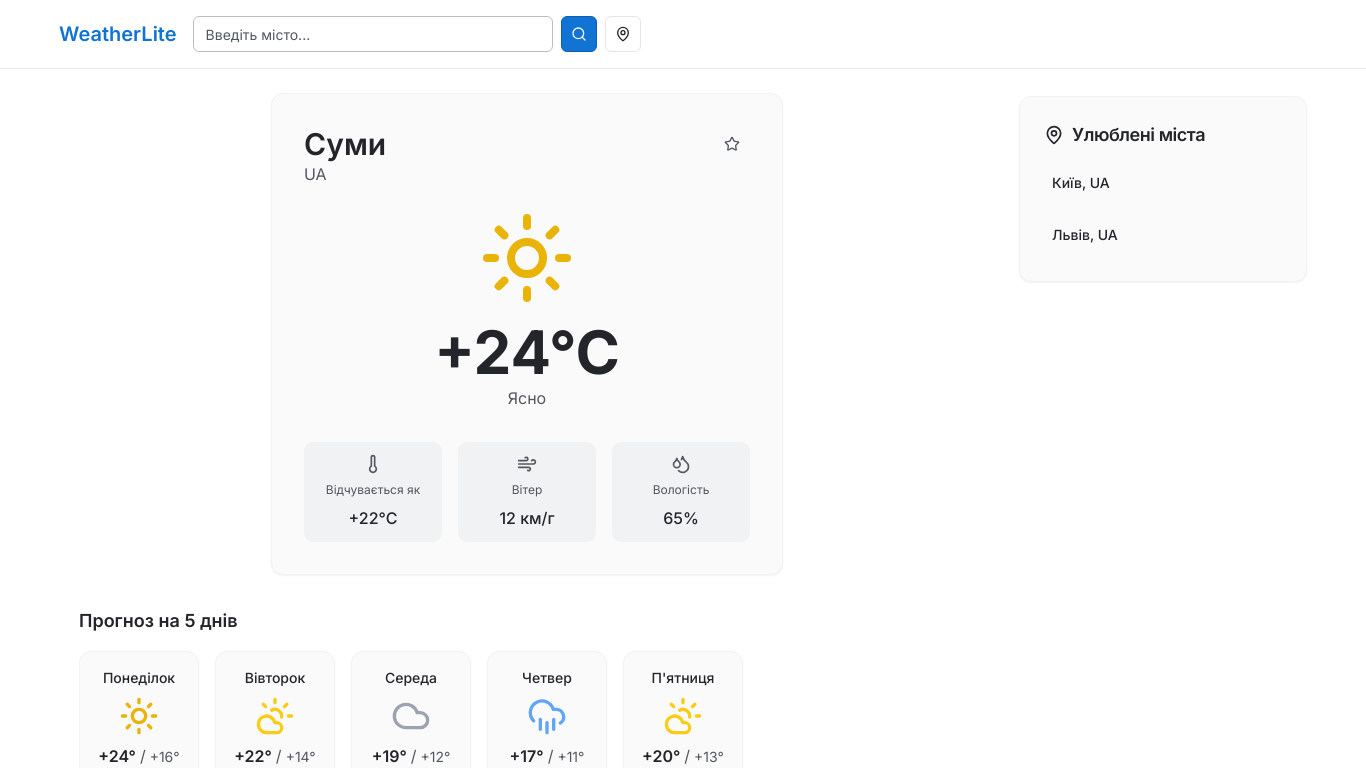
Test: Integration Test - Search, API, and Weather Card › should search for London and display weather card
This screenshot has width=1366, height=768.
Type "London" into the search field with test id "input-search-city".
click(373, 34); type("London")  # box [193,16,553,52]
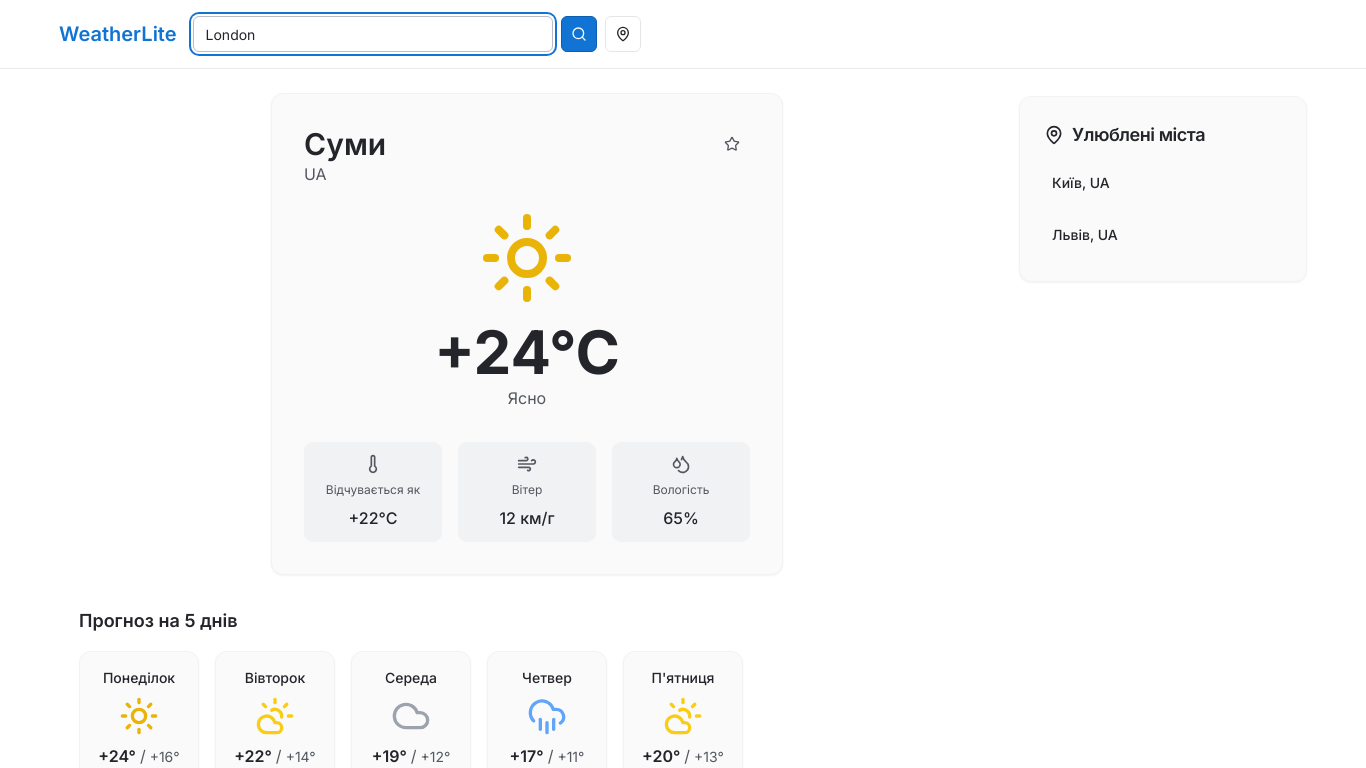
Click the button with test id "button-search".
click(579, 34)  # box [561,16,597,52]
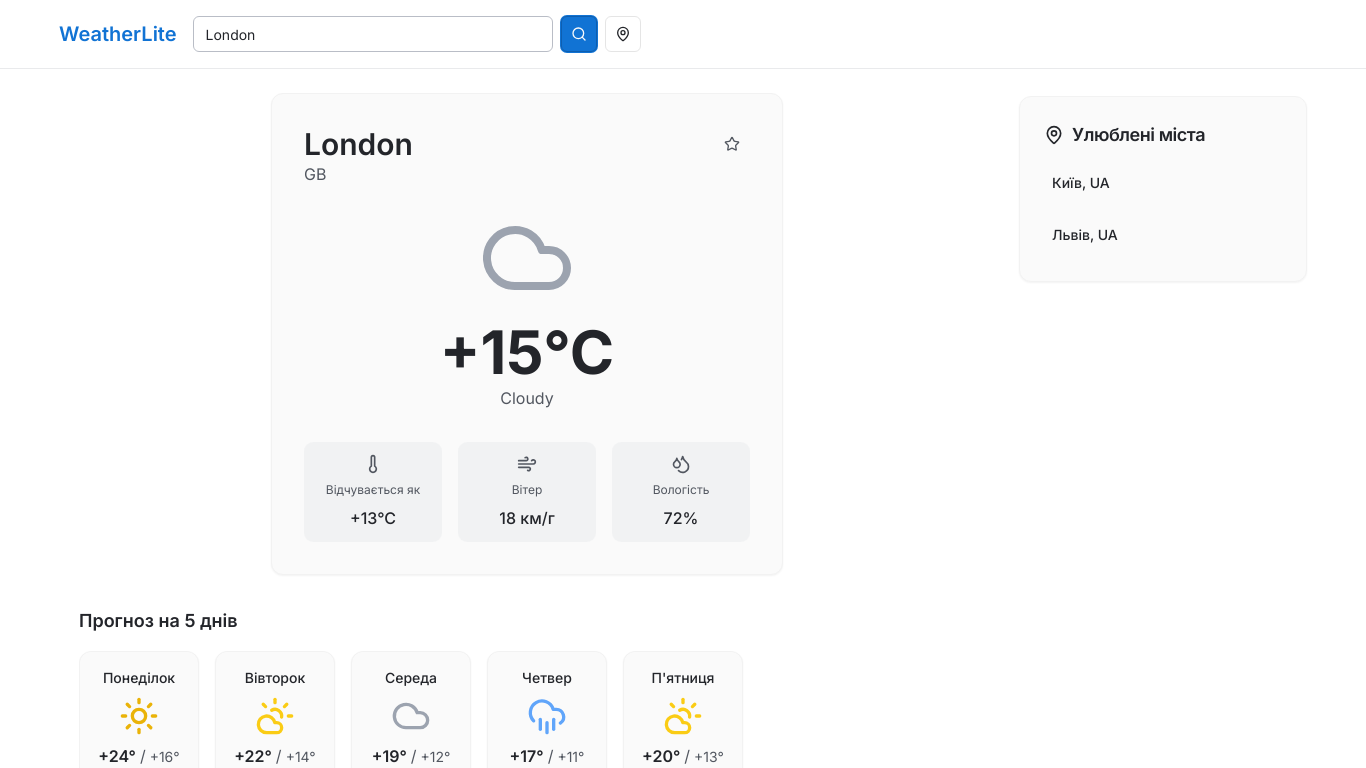
Expected: the heading with test id "text-city-name" reads "London", [304,126,413,162]
